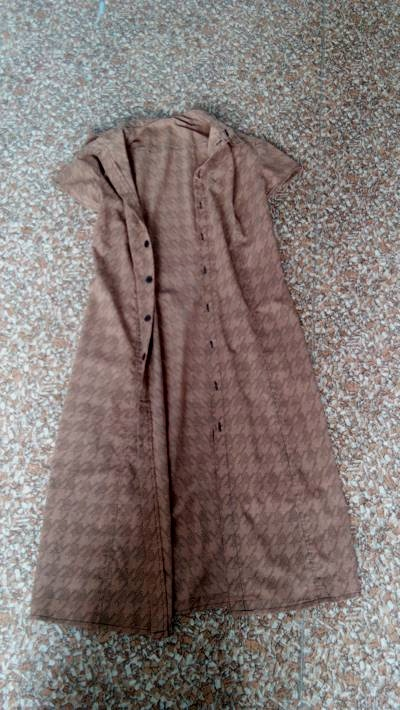Dress: (17, 95, 360, 651)
